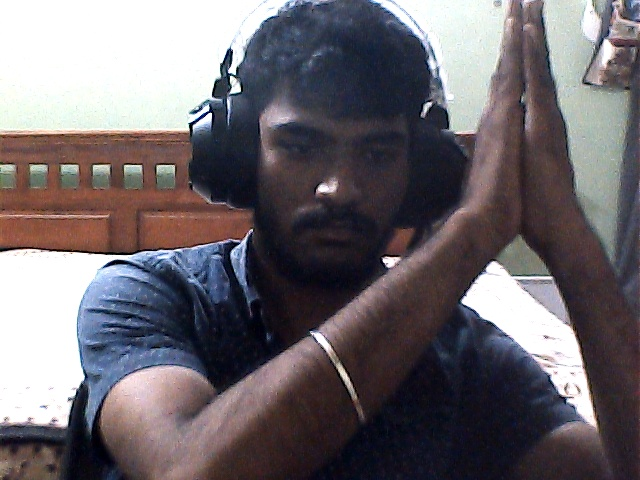Sign: (475, 2, 581, 267)
